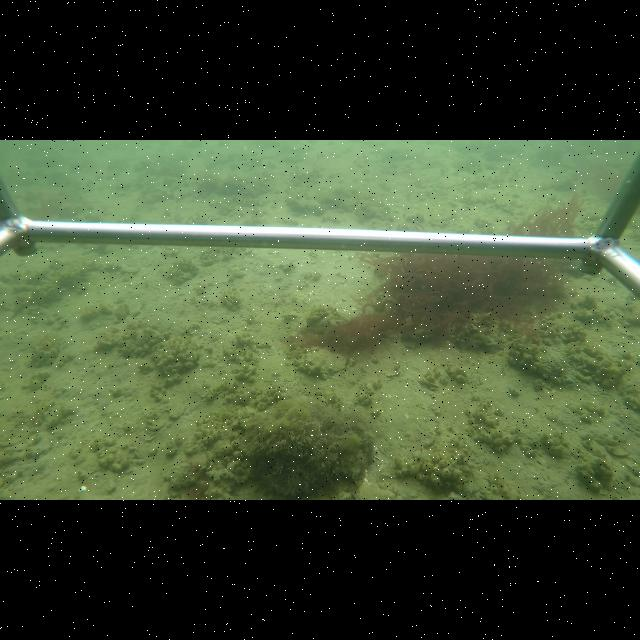Oyster-Closed: (295, 346, 352, 375)
